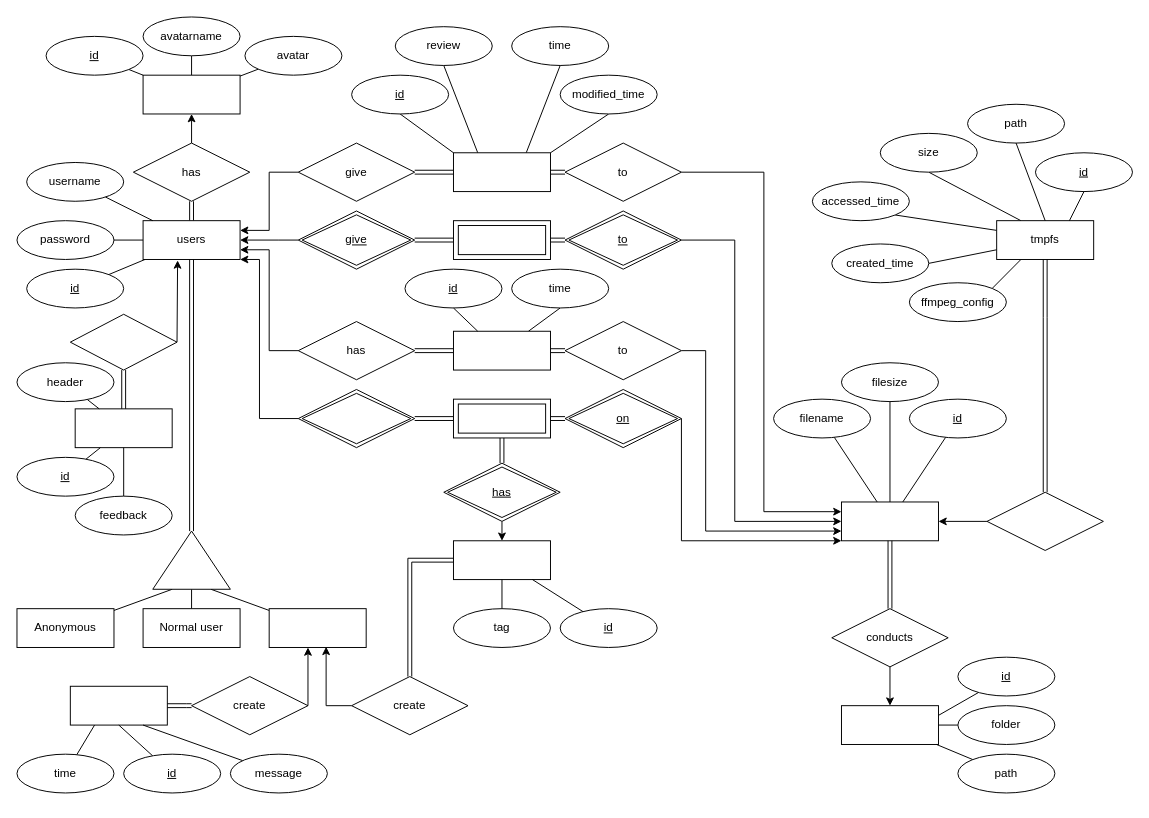
Image size: 1149x818. Some labels were removed from this diagram. The centre of each missing label's shape, as x and y in pixels:
avatars: point (191, 94)
created_by: point (356, 418)
feedbacks: point (123, 428)
file_has_tag: point (501, 418)
files: point (889, 521)
folders: point (889, 724)
generate: point (1044, 520)
ISA: point (191, 559)
likes: point (501, 239)
logs: point (118, 705)
Manager: point (317, 627)
playbacks: point (501, 350)
reviews: point (501, 172)
submit: point (123, 341)
tags: point (501, 560)
